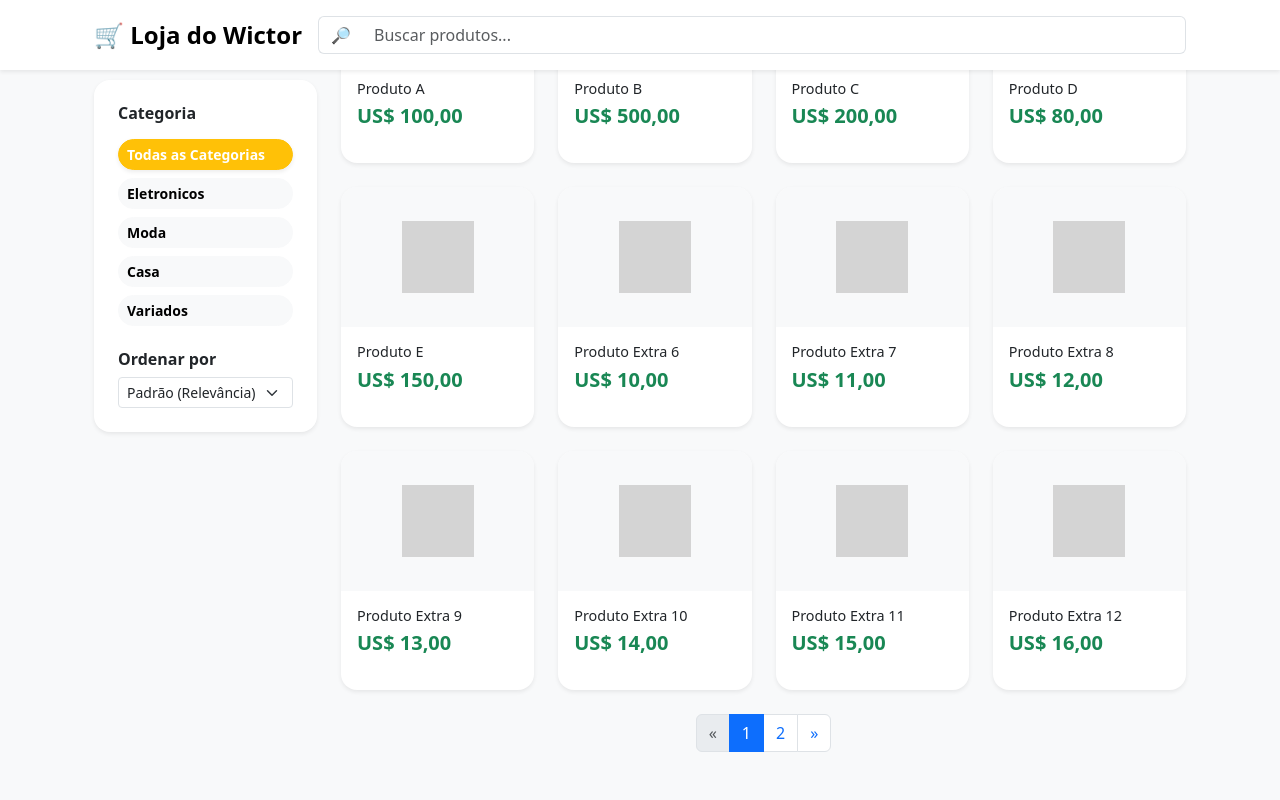
Test case: App Component (Lógica Principal) › deve mudar a página corretamente ao clicar no botão de paginação
The width and height of the screenshot is (1280, 800).
(page scrolled)
Expected: the text "Produto A" is shown, top-left (357, 79), bottom-right (425, 98)
Click the button "2": (781,733) top-left (763, 714), bottom-right (798, 752)
(page scrolled)
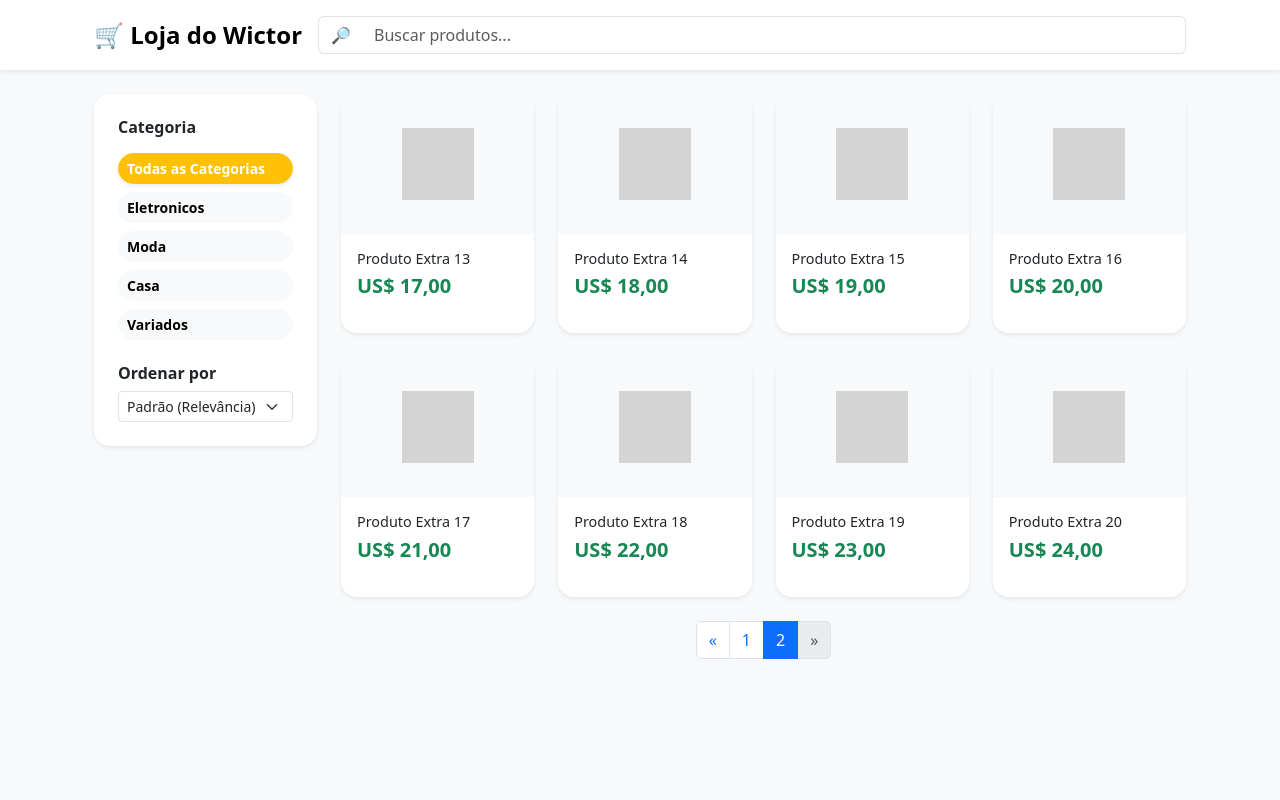
Now the text "Produto A" is gone
Now the text "Produto Extra 18" is shown, box top-left (574, 512), bottom-right (688, 531)
